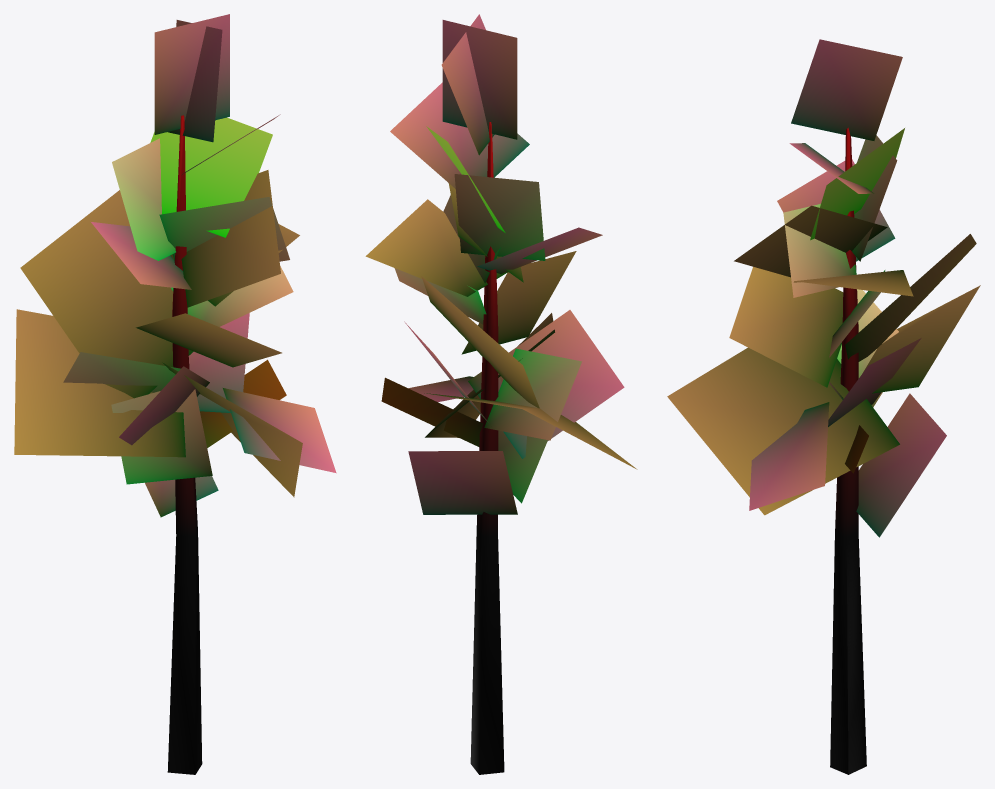
File: swamp_birch_a_128.fbx
The picture shows the model from 3 angles, left to right: view 1: azimuth 30°, elevation 25°; view 2: azimuth 150°, elevation 25°; view 3: azimuth 270°, elevation 25°; orthographic projection.
Visible parts, largest first — view 1: birchleavesa128, birchtreea128; view 2: birchleavesa128, birchtreea128; view 3: birchleavesa128, birchtreea128.
Part boxes in pixels (x1,y1,x2,y2): birchleavesa128: (14,14,336,517); birchtreea128: (167,115,202,774); birchleavesa128: (365,14,637,514); birchtreea128: (470,122,504,774); birchleavesa128: (667,39,980,537); birchtreea128: (830,127,866,774).
Size of what is drawn, in the model's own units: 5.69 by 14.48 by 5.57.
